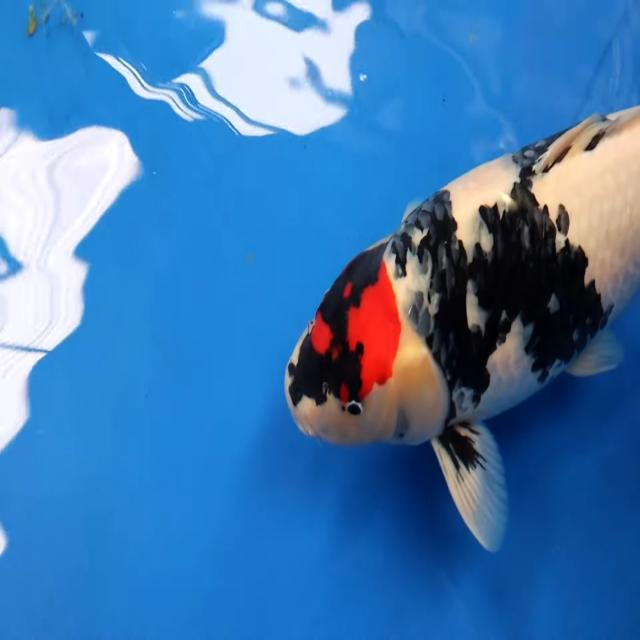Showa: (283, 102, 639, 553)
